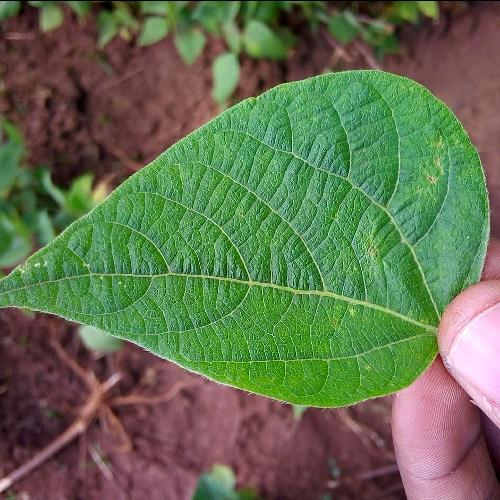embun tepung: (18, 250, 108, 288)
mozaik: (413, 130, 465, 196), (364, 218, 388, 264)
sehat: (168, 134, 348, 338)
